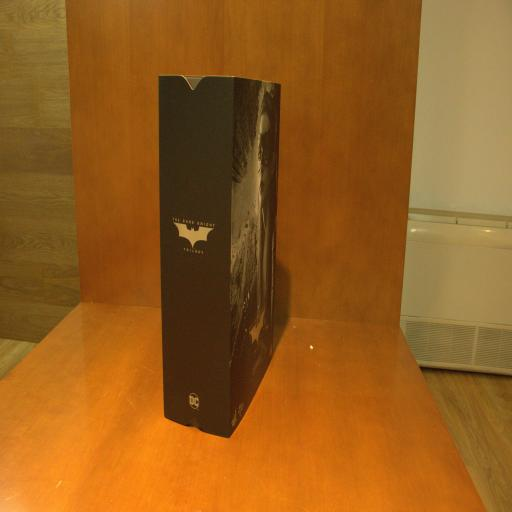catwoman: (158, 74, 281, 440)
